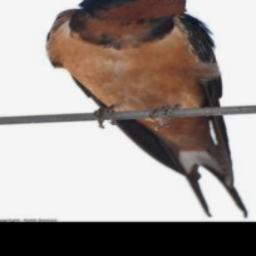Swallow: (43, 0, 251, 219)
